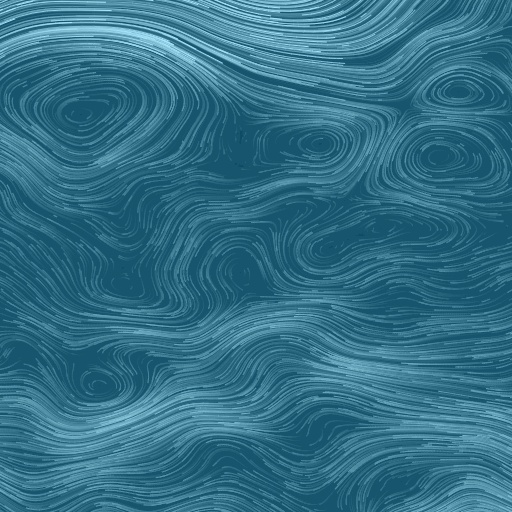eddy: (290, 199, 467, 279), (18, 65, 148, 167), (378, 122, 499, 187), (257, 120, 357, 171), (414, 66, 509, 112), (75, 366, 123, 403)
